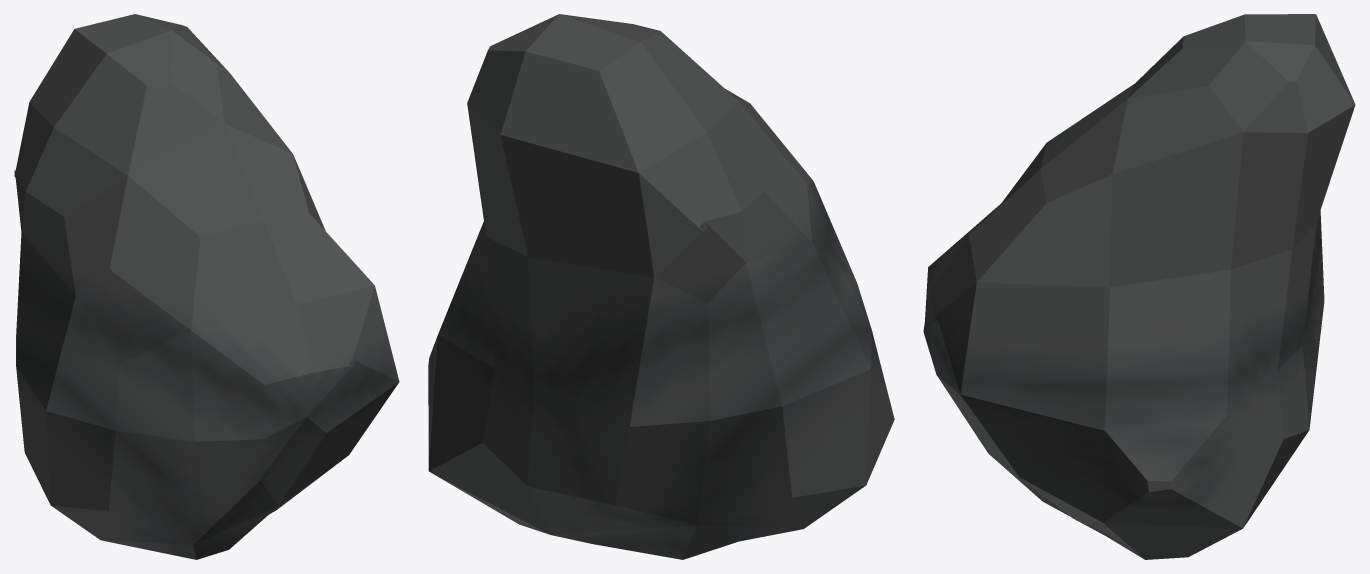
File: Projectile_Rock_3_L.fbx
3 renders of one model, left to right at view 1: azimuth 30°, elevation 25°; view 2: azimuth 150°, elevation 25°; view 3: azimuth 270°, elevation 25°, orthographic. The views are drawn at different scales.
Parts seen in each view (by area): view 1: rock_6_L; view 2: rock_6_L; view 3: rock_6_L.
Part boxes in pixels (x1,y1,x2,y2): rock_6_L: [14, 14, 399, 559]; rock_6_L: [428, 14, 894, 559]; rock_6_L: [923, 14, 1355, 559].
Size of the model in its own units: 80.58 by 106 by 83.51.
